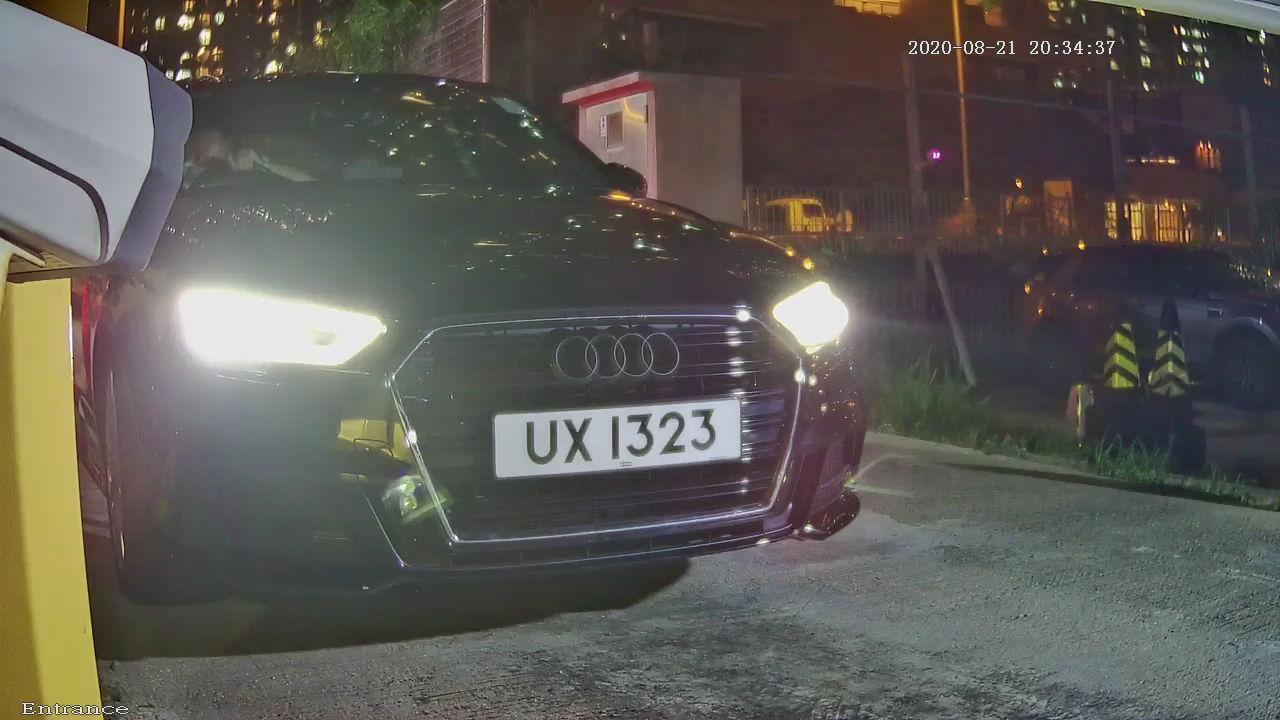Car: (12, 13, 921, 637)
License Plate: (465, 361, 777, 532)
